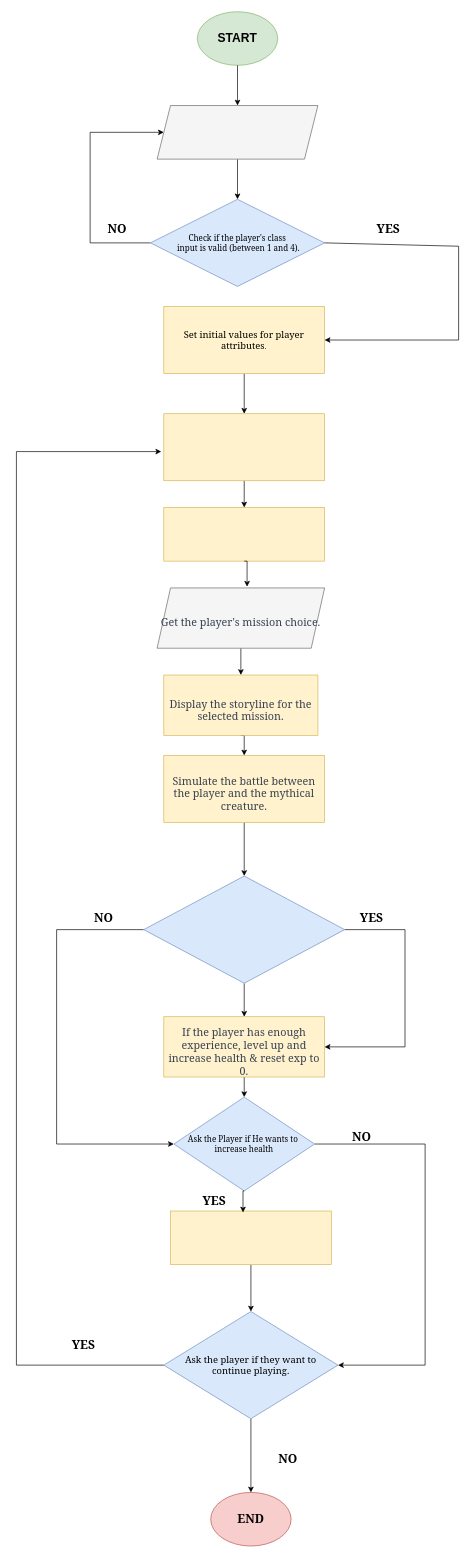
This 476x1558 diagram has some shape labels left out. Here are the shapes that lost their labels. From the top down, the box of each, then its label:
(156, 105, 318, 159): Get the player's name and class.
(163, 413, 325, 481): Display the player's information.
(163, 507, 325, 561): Display the available missions.
(143, 875, 345, 983): Check if the player has enough experience to level up.
(170, 1210, 331, 1265): Your Health is increased by Two Points , it cost 20 experience Points
